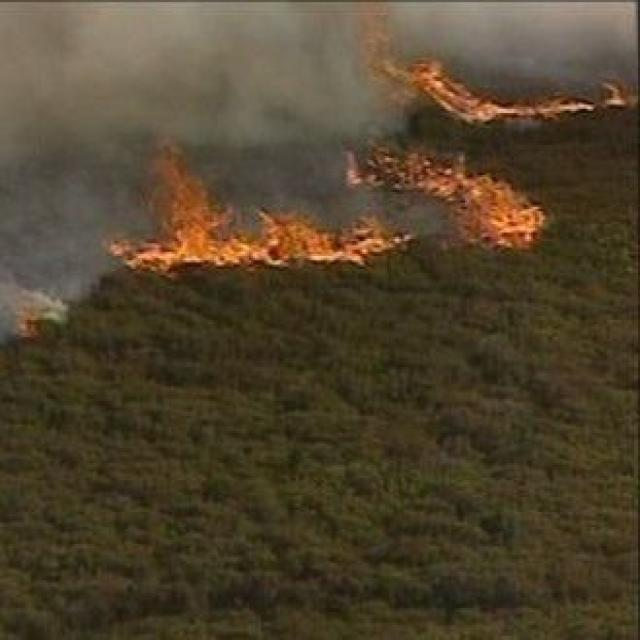Fire: (14, 71, 640, 333)
Smoke: (0, 0, 640, 371)
